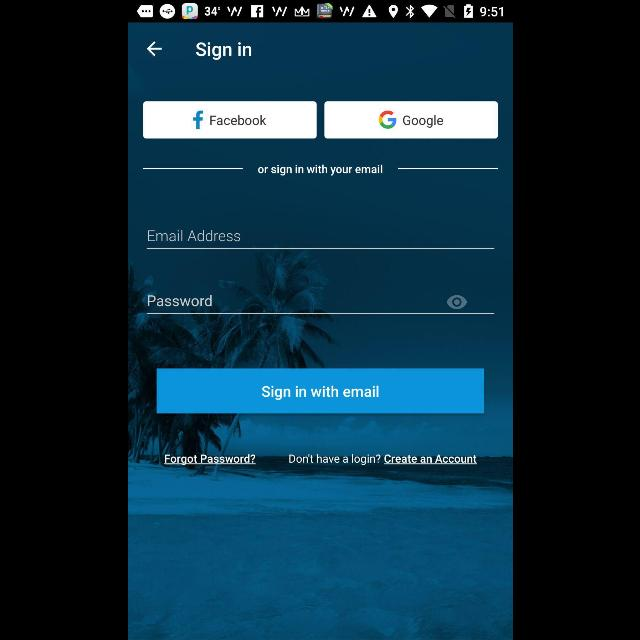backgroundimage: (128, 22, 512, 640)
icon: (446, 295, 466, 309), (146, 42, 162, 56)
input: (146, 294, 494, 314), (146, 230, 494, 250)
text: (288, 454, 476, 466), (256, 164, 382, 176), (147, 230, 240, 242), (163, 454, 255, 466), (195, 42, 251, 60), (147, 295, 211, 307)
textbutton: (155, 368, 482, 414), (323, 102, 497, 138), (142, 102, 316, 138)
uppertaskbar: (128, 1, 512, 23)
